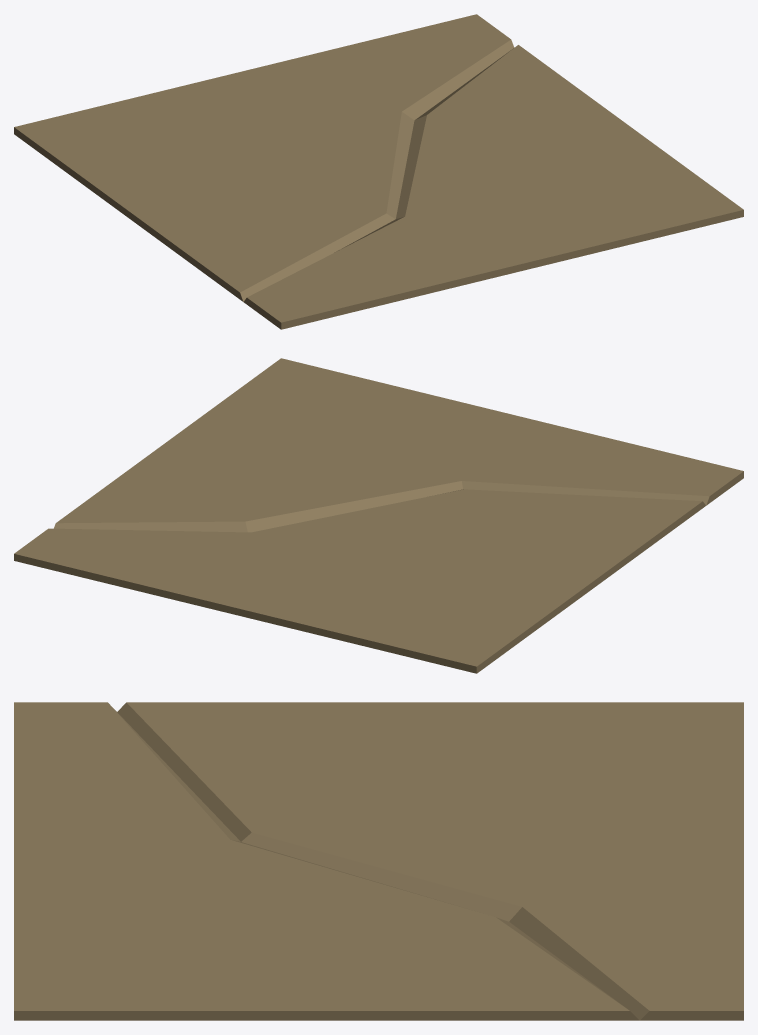
File: Roof_Tile_3_low.fbx
3 views of the same model, one above another, from view 1: azimuth 30°, elevation 25°; view 2: azimuth 150°, elevation 25°; view 3: azimuth 270°, elevation 25° (orthographic). The views are drawn at different scales.
Parts seen in each view (by area): view 1: Roof_Tile_3_low; view 2: Roof_Tile_3_low; view 3: Roof_Tile_3_low.
Part boxes in pixels (<box>): Roof_Tile_3_low: <box>14,14,743,329</box>; Roof_Tile_3_low: <box>14,358,743,673</box>; Roof_Tile_3_low: <box>14,702,743,1020</box>.
Size of the model in its own units: 1 by 0.0147 by 1.
